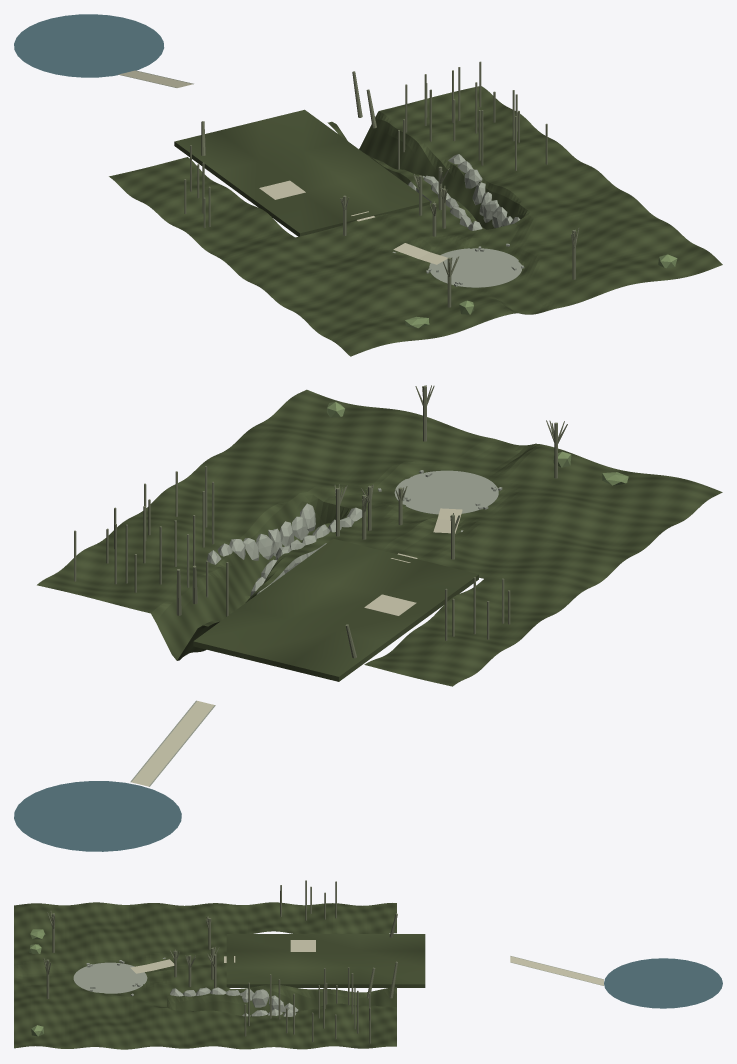
Rendered from world-art-context.glb.
3 views of the same model, one above another, from view 1: azimuth 30°, elevation 25°; view 2: azimuth 150°, elevation 25°; view 3: azimuth 270°, elevation 25° (orthographic). The views are drawn at different scales.
Visible parts, largest first — view 1: Terrain_bank_colours, Pool_study, Stone_shade, Trunks, Limestone, Canopy_1; view 2: Terrain_bank_colours, Pool_study, Stone_shade, Trunks, Limestone, Canopy_1; view 3: Terrain_bank_colours, Pool_study, Stone_shade, Trunks, Limestone, Canopy_1.
Boxes of the visible parts, box(x1,y1,x2,y2) form: Terrain_bank_colours: box(109, 86, 722, 356); Pool_study: box(14, 14, 164, 77); Stone_shade: box(118, 70, 524, 287); Trunks: box(184, 61, 579, 307); Limestone: box(119, 70, 447, 264); Canopy_1: box(405, 254, 677, 328); Terrain_bank_colours: box(37, 389, 722, 686); Pool_study: box(14, 781, 181, 851); Stone_shade: box(130, 470, 502, 786); Trunks: box(74, 385, 567, 658); Limestone: box(131, 508, 462, 786); Canopy_1: box(327, 402, 628, 485); Terrain_bank_colours: box(14, 902, 425, 1049); Pool_study: box(604, 958, 722, 1008); Stone_shade: box(73, 956, 603, 1016); Trunks: box(43, 880, 397, 1043); Limestone: box(130, 940, 603, 985); Canopy_1: box(29, 929, 45, 1036).
Size of what is drawn, in the model's own units: 120 by 30.32 by 250.
